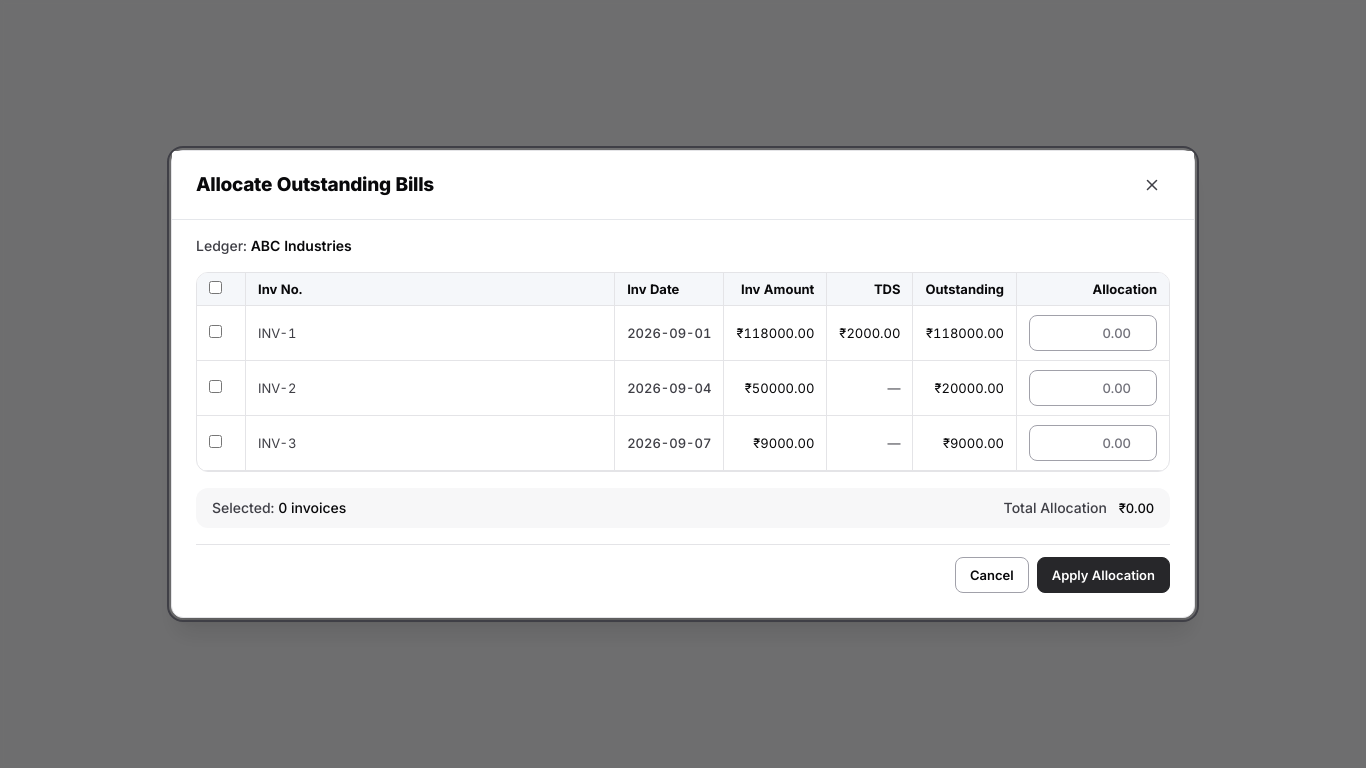
ticking a bill › fills the allocation with what is outstanding, not what the bill was
The width and height of the screenshot is (1366, 768).
Click the checkbox named "Allocate against INV-2" at (216, 386), box x1=209 y1=380 x2=222 y2=393
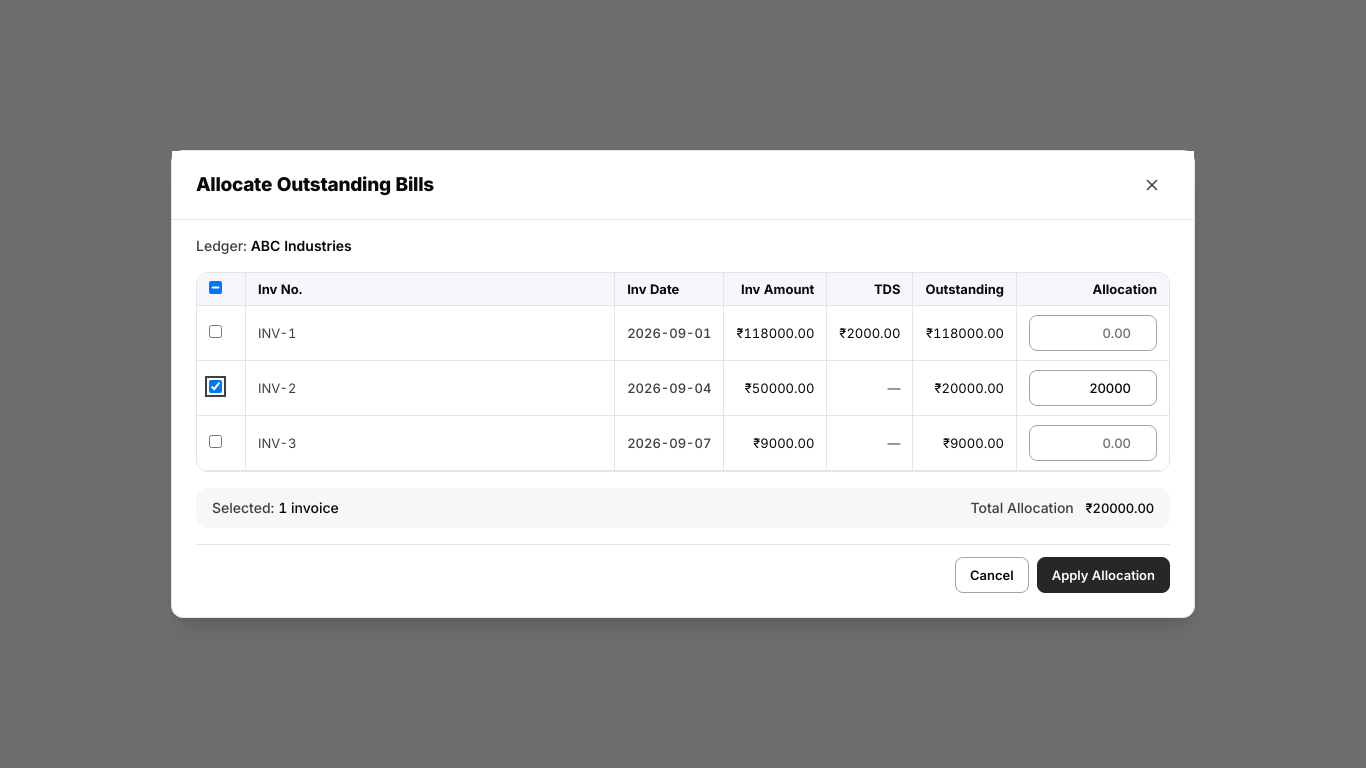
Expected: the number field named "Allocation against INV-2" holds "20000", x1=1029 y1=370 x2=1157 y2=406
